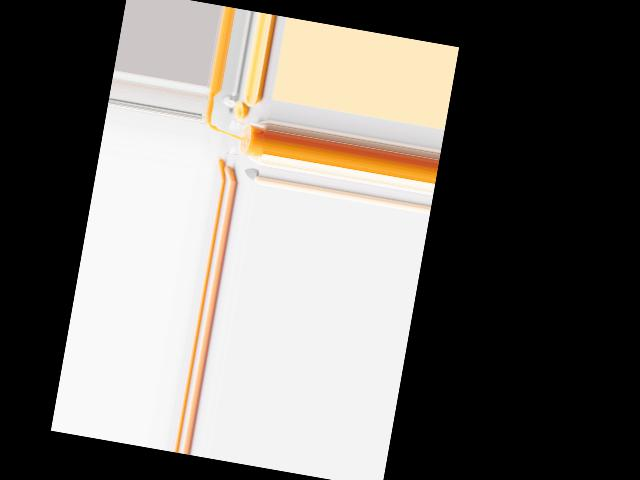carrot: (216, 156, 242, 182)
